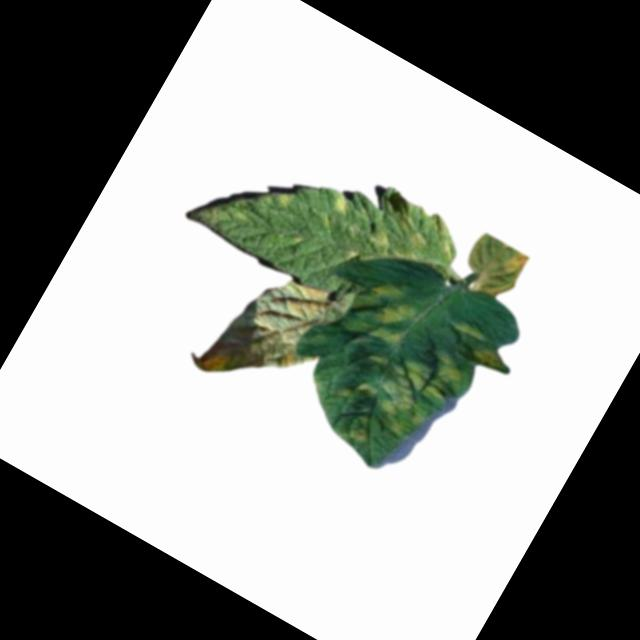Leaf_Mold: (195, 256, 347, 418), (337, 318, 469, 448), (362, 188, 465, 287), (338, 273, 425, 360), (456, 229, 533, 305), (446, 316, 516, 377), (267, 184, 300, 221), (325, 189, 358, 221), (343, 425, 369, 449)
